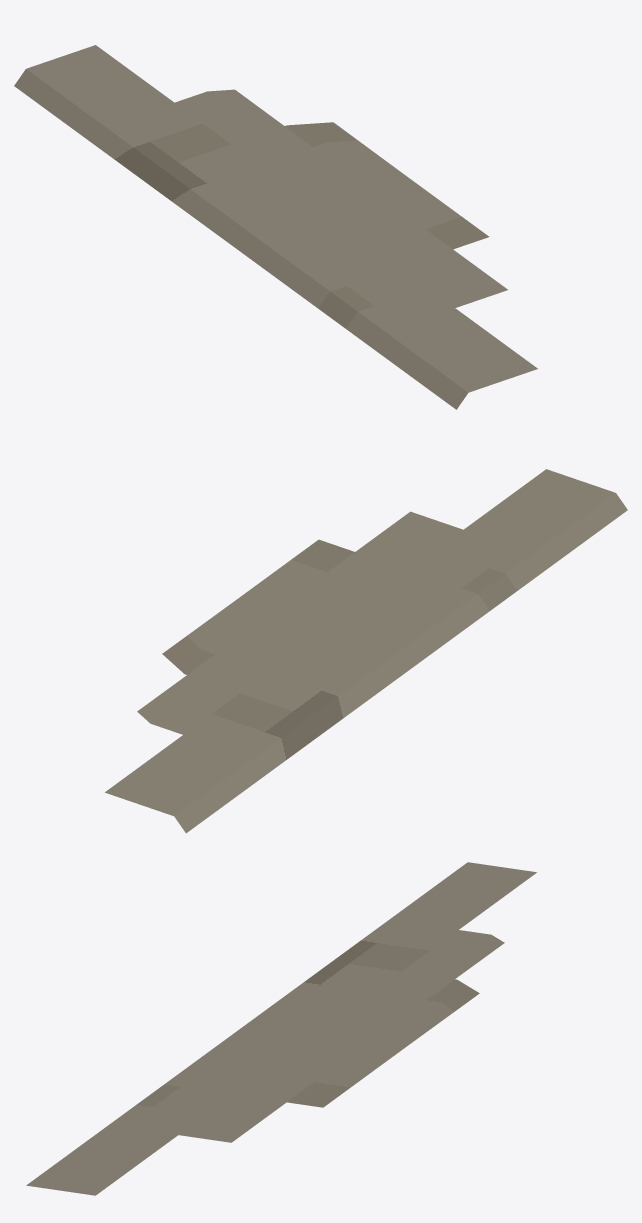
3 renders of one model, top to bottom at view 1: azimuth 30°, elevation 25°; view 2: azimuth 150°, elevation 25°; view 3: azimuth 330°, elevation 25°, orthographic.
Bounding box in the file's own units: 0.2249 × 0.0373 × 1.
Materials: 1 (1 with a texture image).
